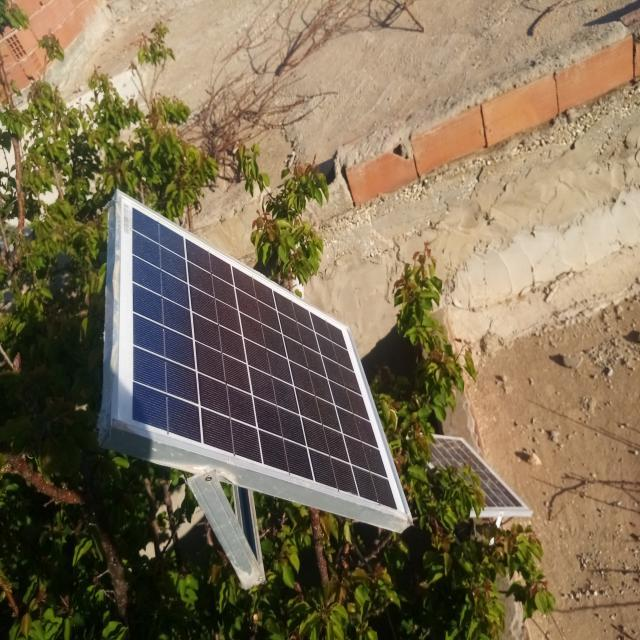faulty: (446, 436, 532, 510)
no faulty: (113, 192, 411, 518)
